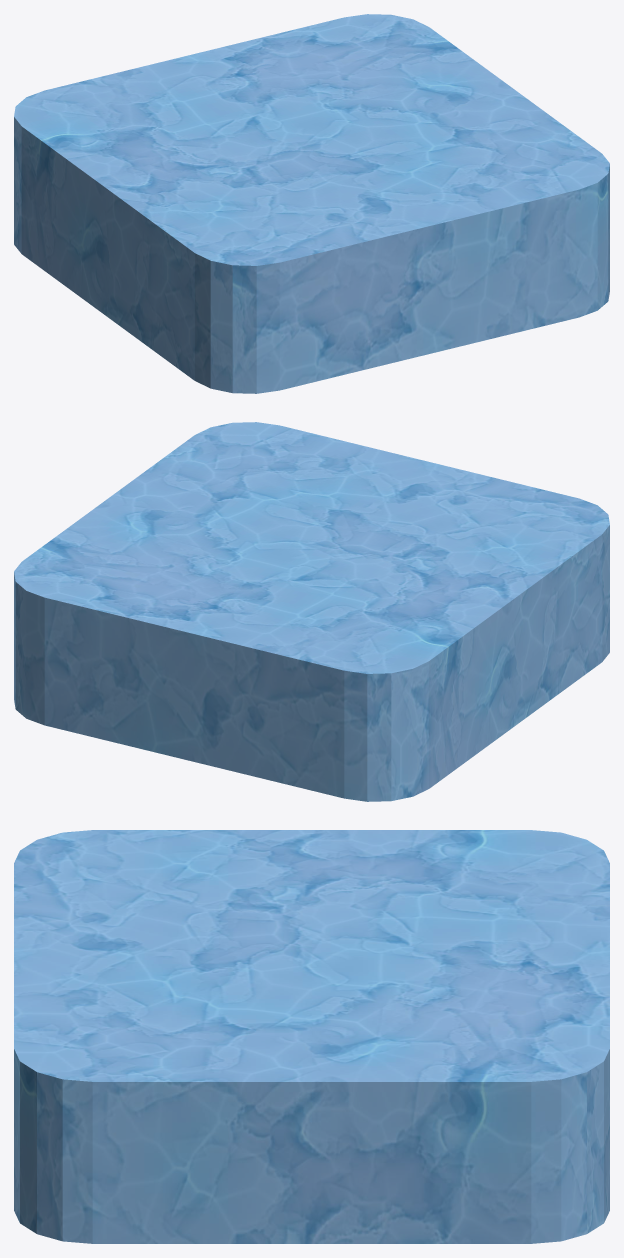
The model's file is лед.fbx.
3 renders of one model, top to bottom at view 1: azimuth 30°, elevation 25°; view 2: azimuth 150°, elevation 25°; view 3: azimuth 270°, elevation 25°, orthographic. The views are drawn at different scales.
Visible parts, largest first — view 1: Cube; view 2: Cube; view 3: Cube.
Part boxes in pixels (left/top/right/bottom): Cube: left=14, top=14, right=609, bottom=393; Cube: left=14, top=422, right=609, bottom=801; Cube: left=14, top=830, right=609, bottom=1243.
Size of the model in its own units: 200 by 60 by 200.
Materials: 1 (1 with a texture image).
